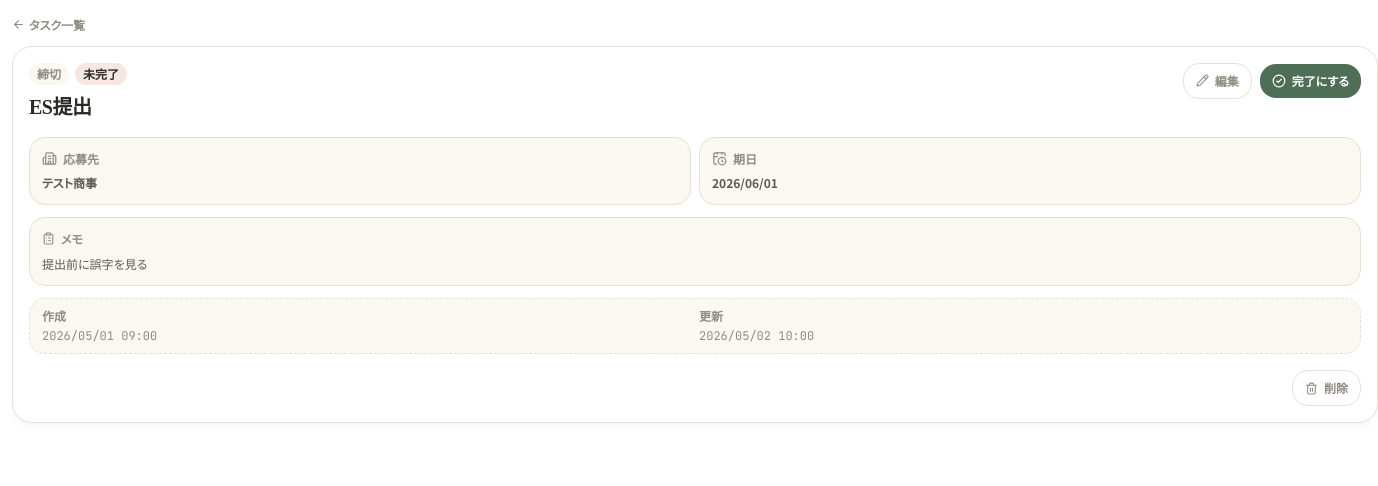
TaskDetailView › 完了切替が失敗したら状態を戻してエラーを表示する
What coordinates should you click on to do the following:
click the button "完了にする"
I would click on:
 (1310, 80)
Its box is [1260, 64, 1361, 98].
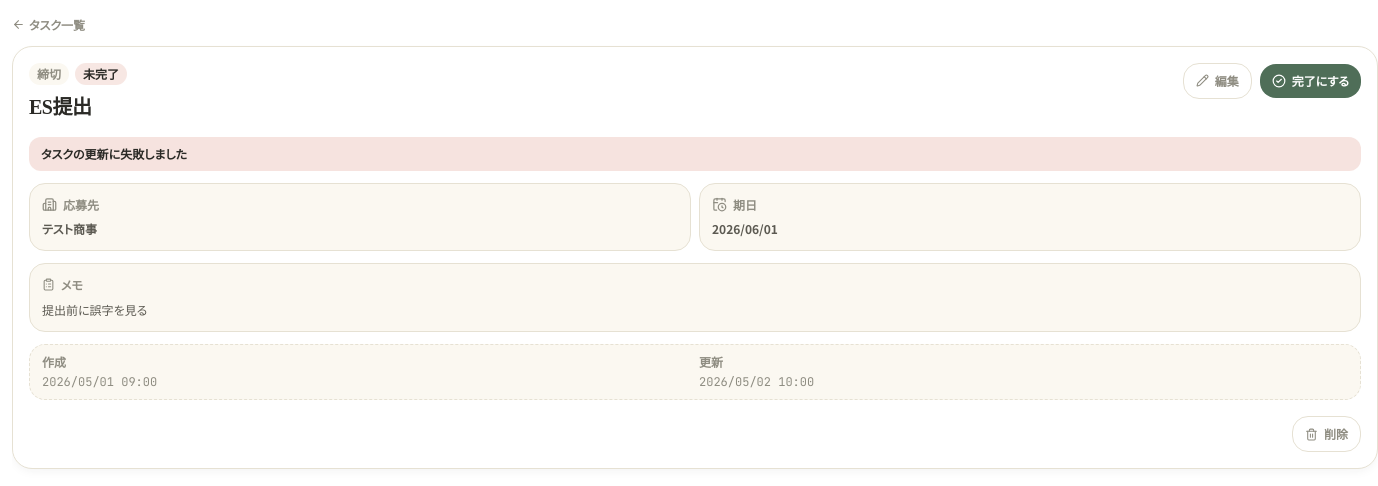
Expected: the text "未完了" is shown, [75, 62, 127, 84]
Expected: the message "タスクの更新に失敗しました" is shown, [29, 136, 1361, 170]
